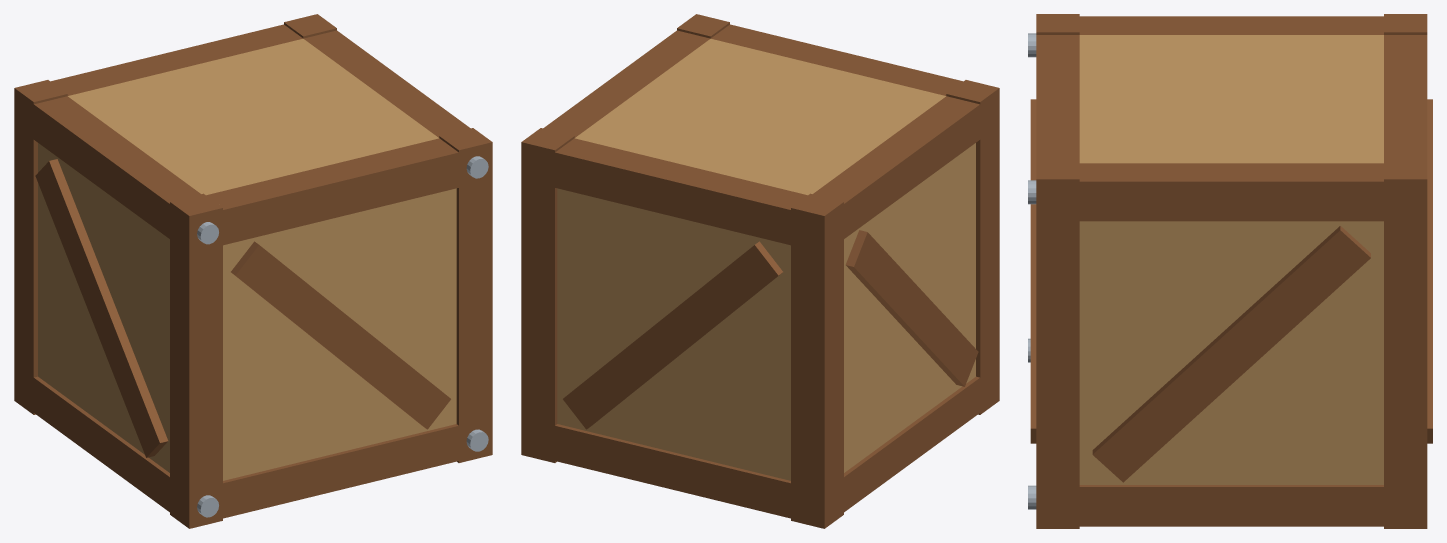
The model's file is crate-lod0.glb.
The picture shows the model from 3 angles, left to right: view 1: azimuth 30°, elevation 25°; view 2: azimuth 150°, elevation 25°; view 3: azimuth 270°, elevation 25°; orthographic projection. The views are drawn at different scales.
Visible parts, largest first — view 1: crate; view 2: crate; view 3: crate.
Boxes of the visible parts, x1,y1,x2,y2 form: crate: [14, 14, 492, 528]; crate: [521, 14, 999, 528]; crate: [1028, 14, 1432, 528].
Size of the model in its own units: 0.74 by 0.71 by 0.745.
